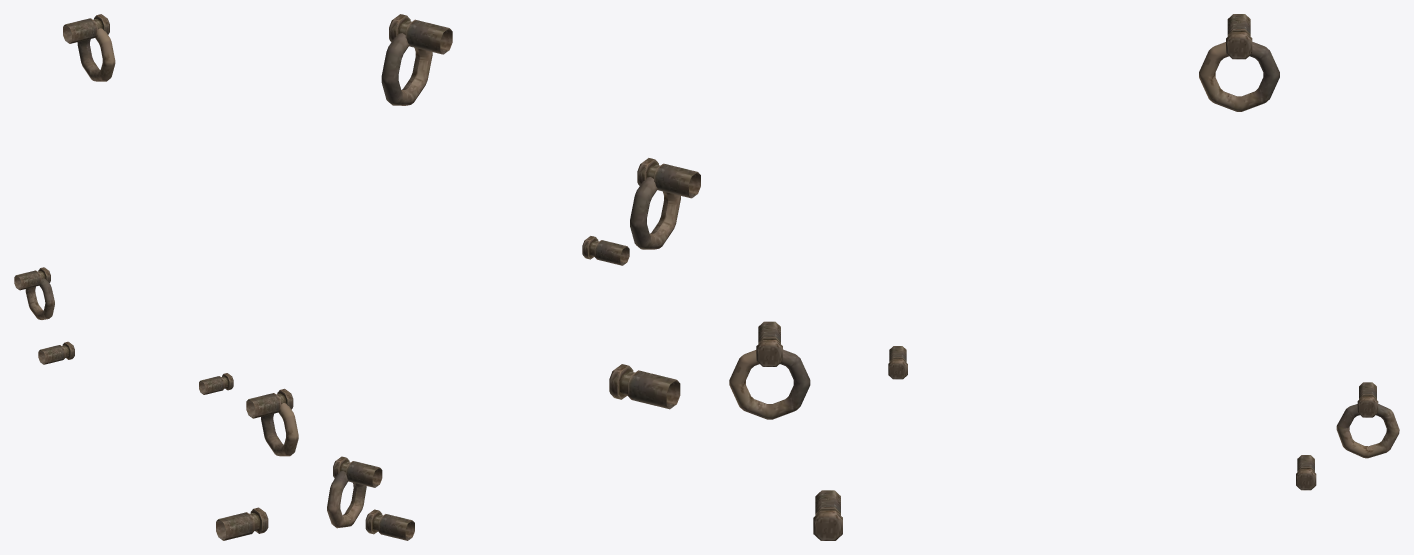
3 views of the same model, side by side, from view 1: azimuth 30°, elevation 25°; view 2: azimuth 150°, elevation 25°; view 3: azimuth 270°, elevation 25° (orthographic). The views are drawn at different scales.
Visible parts, largest first — view 1: SM_DR_WallBolts_01_LOD0; view 2: SM_DR_WallBolts_01_LOD0; view 3: SM_DR_WallBolts_01_LOD0.
Boxes of the visible parts, x1=… form: SM_DR_WallBolts_01_LOD0: x1=14, y1=14, x2=298, y2=540; SM_DR_WallBolts_01_LOD0: x1=327, y1=14, x2=700, y2=540; SM_DR_WallBolts_01_LOD0: x1=729, y1=14, x2=1399, y2=540.
Bounding box in the file's own units: 0.4125 × 3.45 × 4.13.
Materials: 1 (1 with a texture image).
